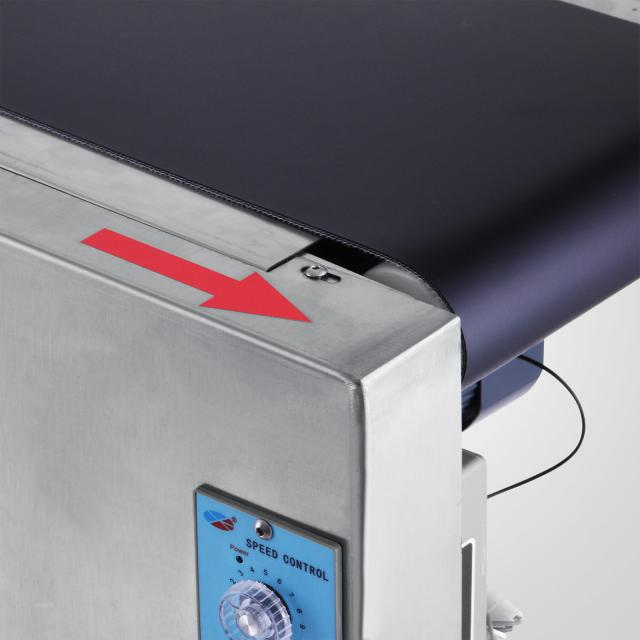conveyor: (0, 0, 640, 479)
